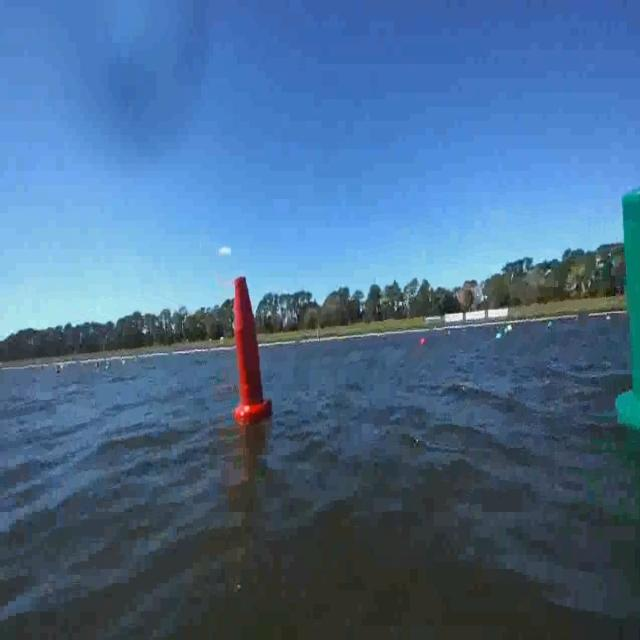green-column-buoy: (619, 182, 640, 433)
red-column-buoy: (230, 271, 269, 423)
